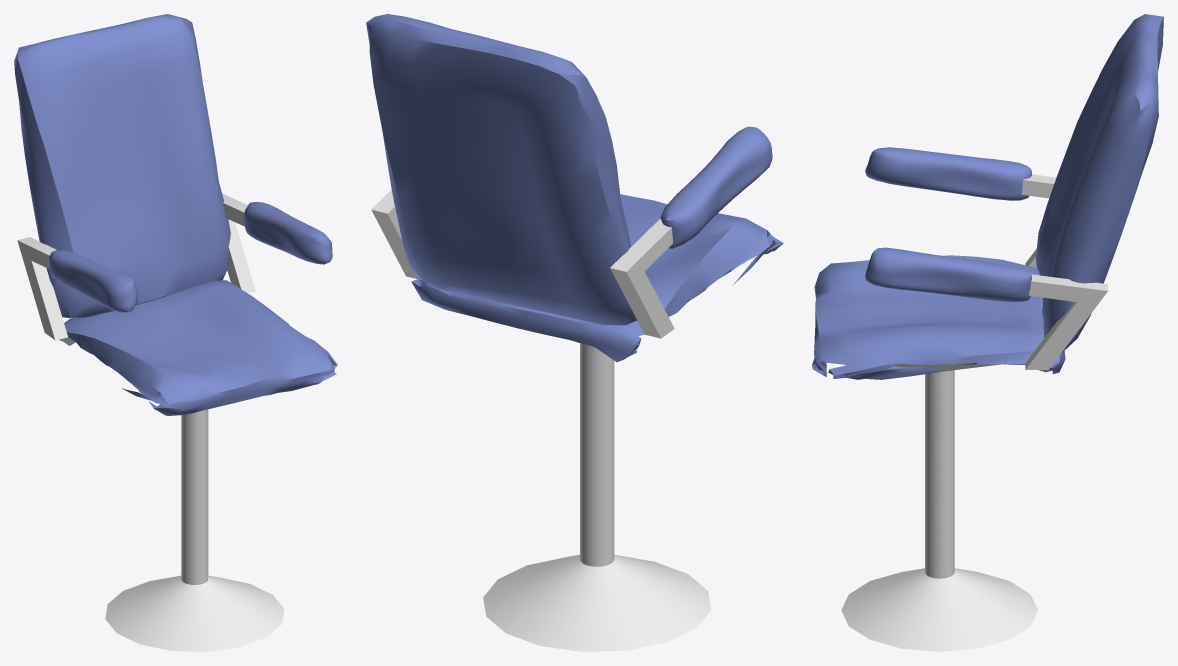
Rendered from chair.fbx.
The picture shows the model from 3 angles, left to right: view 1: azimuth 30°, elevation 25°; view 2: azimuth 150°, elevation 25°; view 3: azimuth 270°, elevation 25°; orthographic projection. The views are drawn at different scales.
Parts seen in each view (by area): view 1: Symmetry_1; view 2: Symmetry_1; view 3: Symmetry_1.
Boxes of the visible parts, x1,y1,x2,y2 form: Symmetry_1: (14, 14, 337, 651); Symmetry_1: (366, 14, 783, 651); Symmetry_1: (812, 14, 1163, 651).
Bounding box in the file's own units: 165 × 365 × 207.
